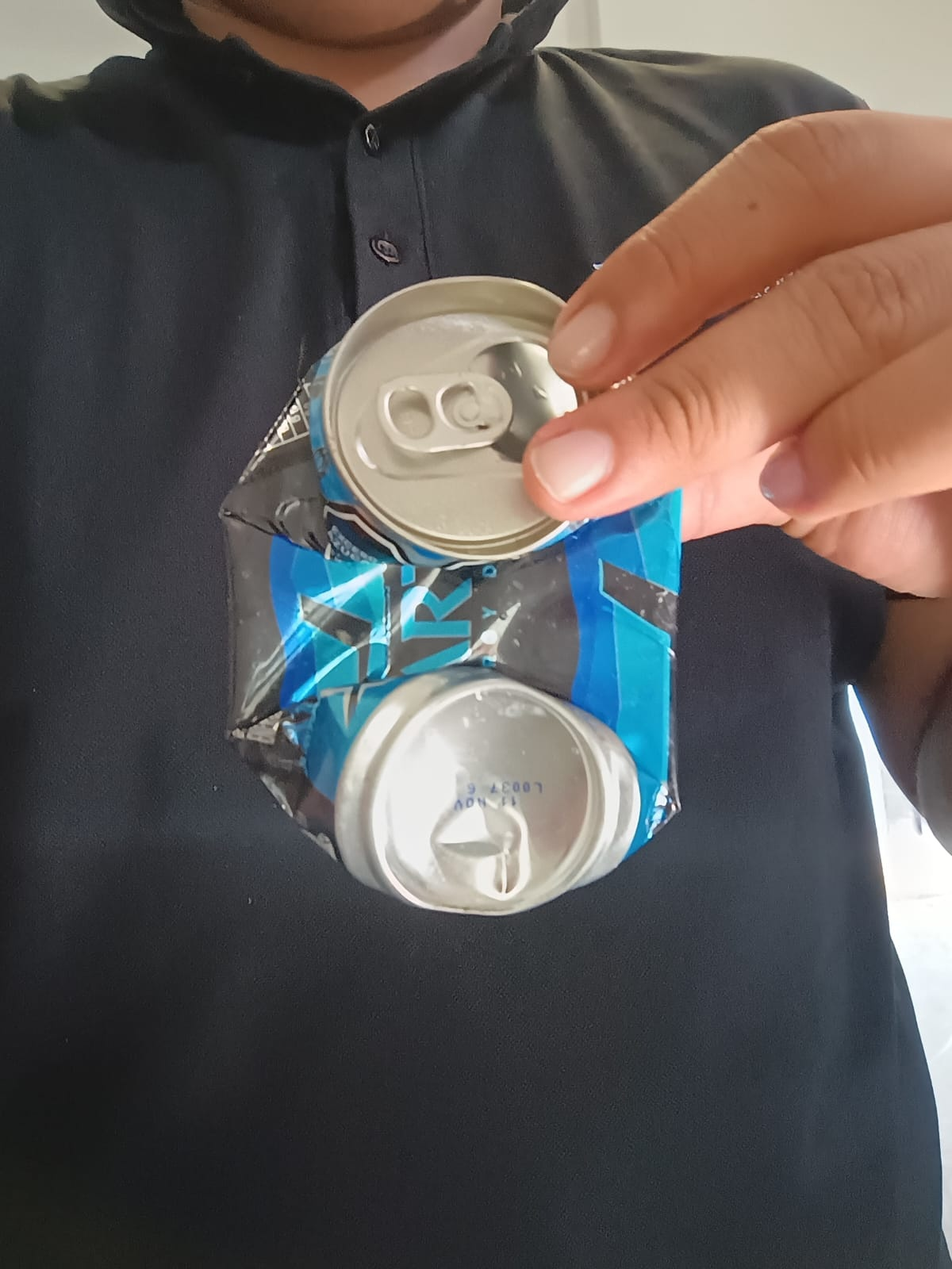Metal: (223, 278, 685, 911)
